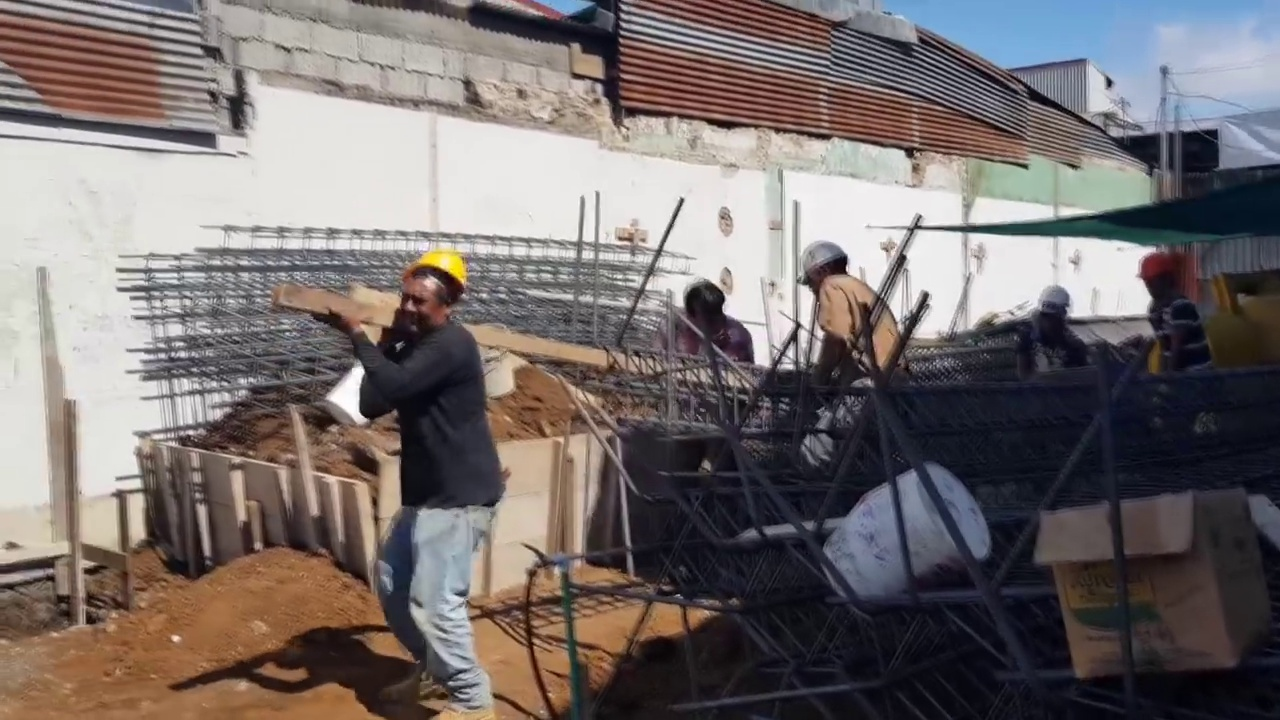helmet: (402, 248, 465, 299), (796, 241, 847, 285), (1137, 256, 1184, 282), (1038, 285, 1069, 308)
helmet-off: (682, 280, 730, 338)
helmet-on: (393, 240, 472, 336), (794, 241, 849, 298), (1137, 254, 1186, 308), (1032, 284, 1070, 326)
person: (316, 236, 504, 719), (785, 239, 908, 471), (650, 279, 756, 374), (1136, 256, 1220, 370), (1015, 283, 1092, 375)
